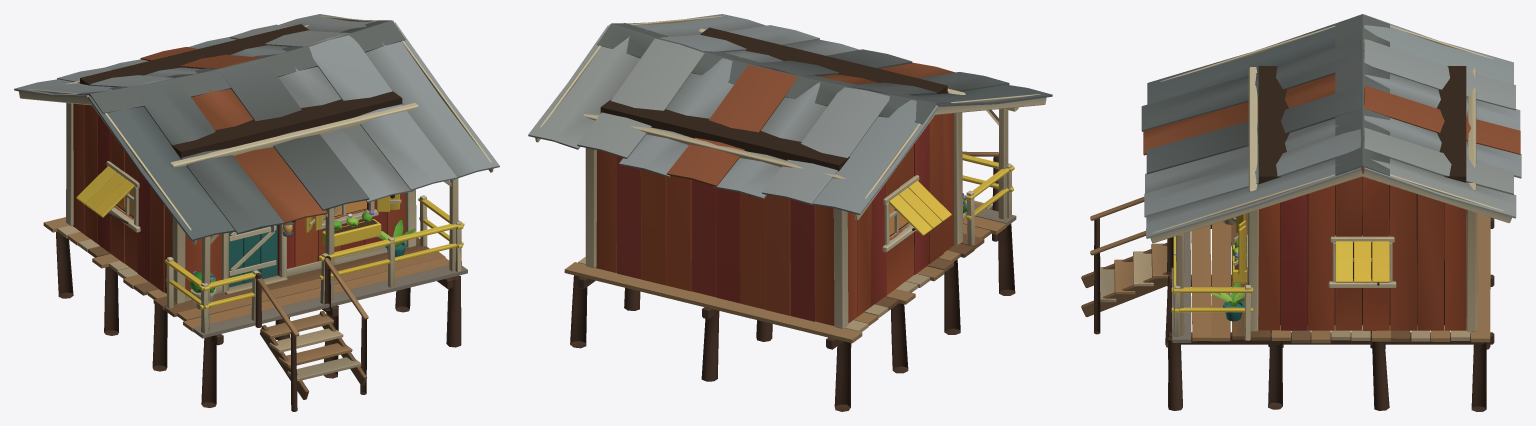
Rendered from stilt_house_b-DatdB7W3.glb.
3 renders of one model, left to right at view 1: azimuth 30°, elevation 25°; view 2: azimuth 150°, elevation 25°; view 3: azimuth 270°, elevation 25°, orthographic. The views are drawn at different scales.
Visible parts, largest first — view 1: stilt_house_b; view 2: stilt_house_b; view 3: stilt_house_b.
Part boxes in pixels (box(x1,y1,x2,y2)): stilt_house_b: box(14, 14, 499, 411); stilt_house_b: box(528, 14, 1052, 411); stilt_house_b: box(1081, 14, 1521, 411).
Bounding box in the file's own units: 6.67 × 5.2 × 8.06.
